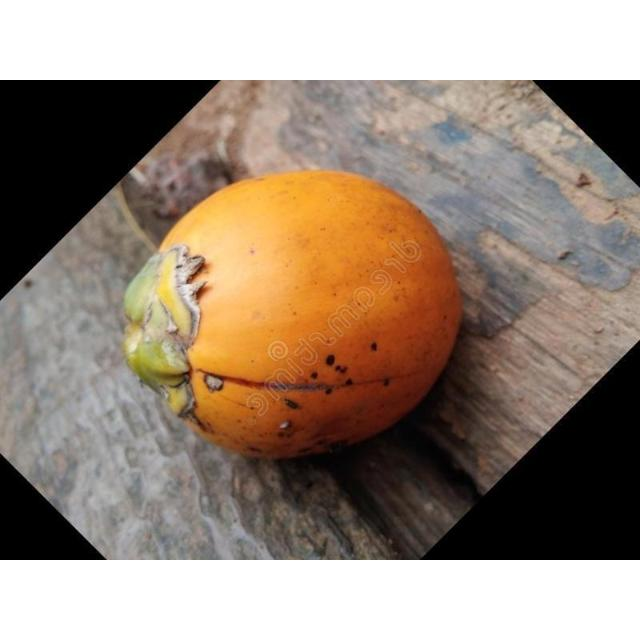good: (120, 170, 463, 462)
